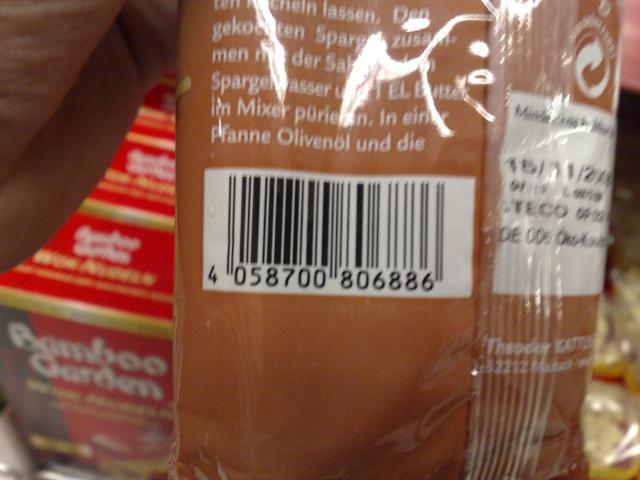Barcode: (203, 166, 453, 298)
